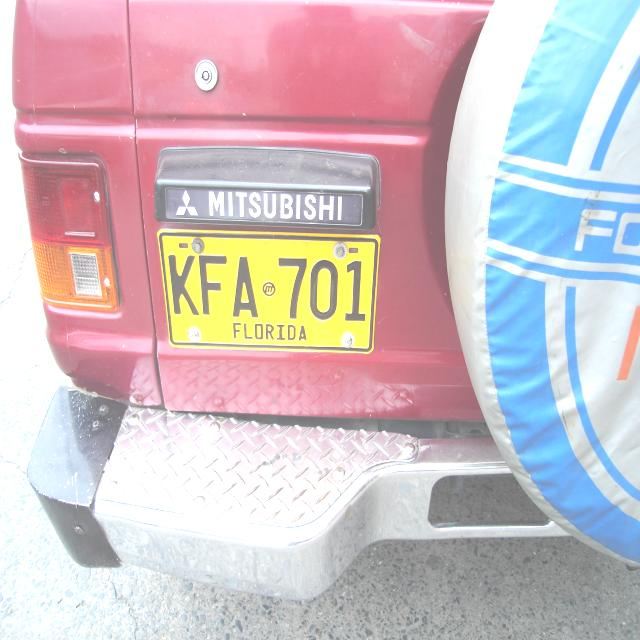placa: (152, 223, 383, 359)
